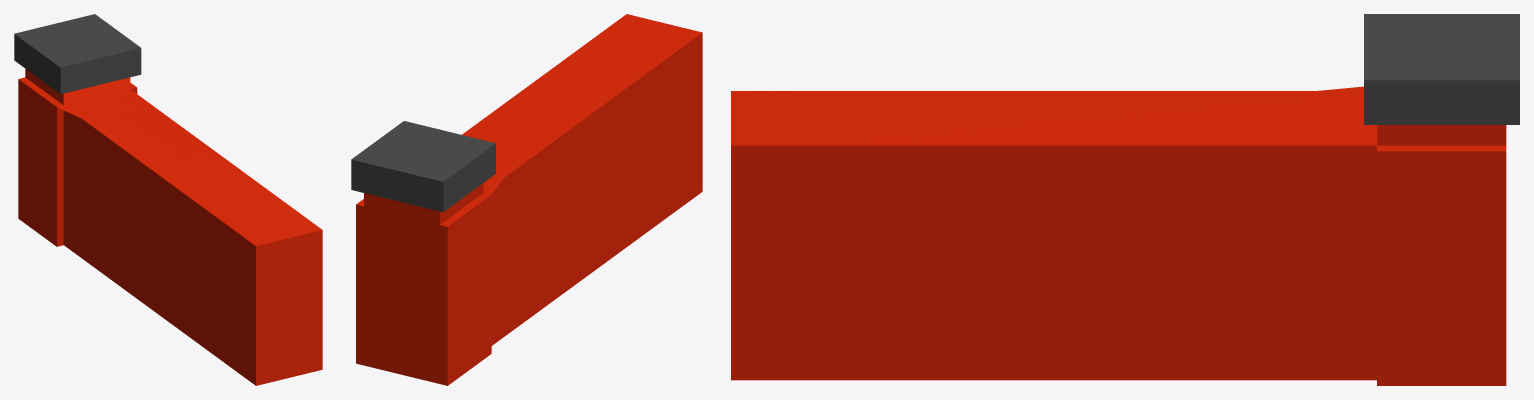
Rendered from brick-wall.fbx.
3 renders of one model, left to right at view 1: azimuth 30°, elevation 25°; view 2: azimuth 150°, elevation 25°; view 3: azimuth 270°, elevation 25°, orthographic. The views are drawn at different scales.
Visible parts, largest first — view 1: Cube; view 2: Cube; view 3: Cube.
Part boxes in pixels (x1,y1,x2,y2): Cube: [14, 14, 322, 385]; Cube: [351, 14, 702, 385]; Cube: [731, 14, 1519, 385].
Size of the model in its own units: 242 by 522 by 1220.
